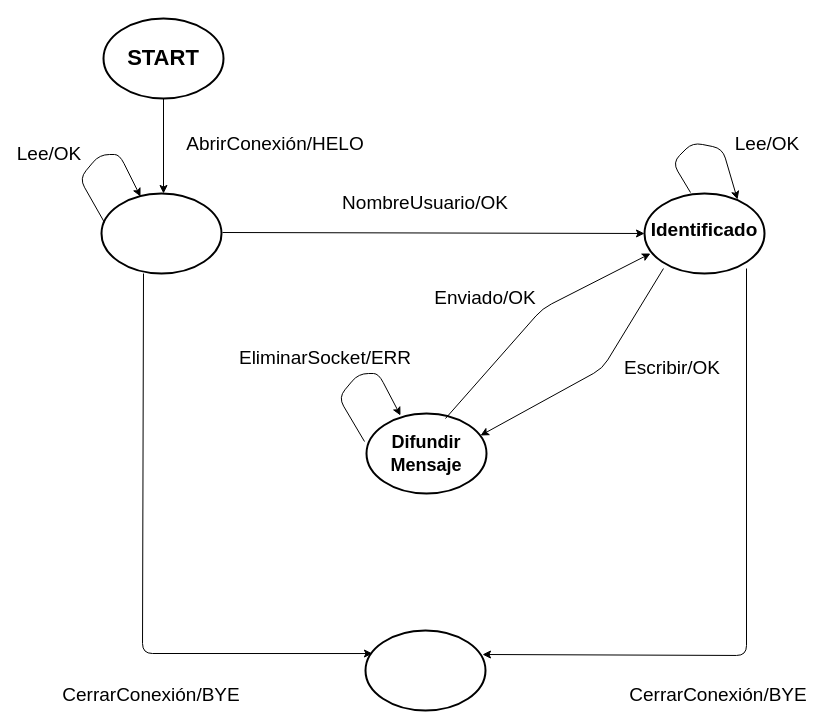
Image size: 824x728. Some labels were removed from this diagram. The shapes that lost their labels are listed below. From the top down, each one's centre as x and y in pixels, then its label:
At (161,233): "No identificado".
At (425,670): "END".
